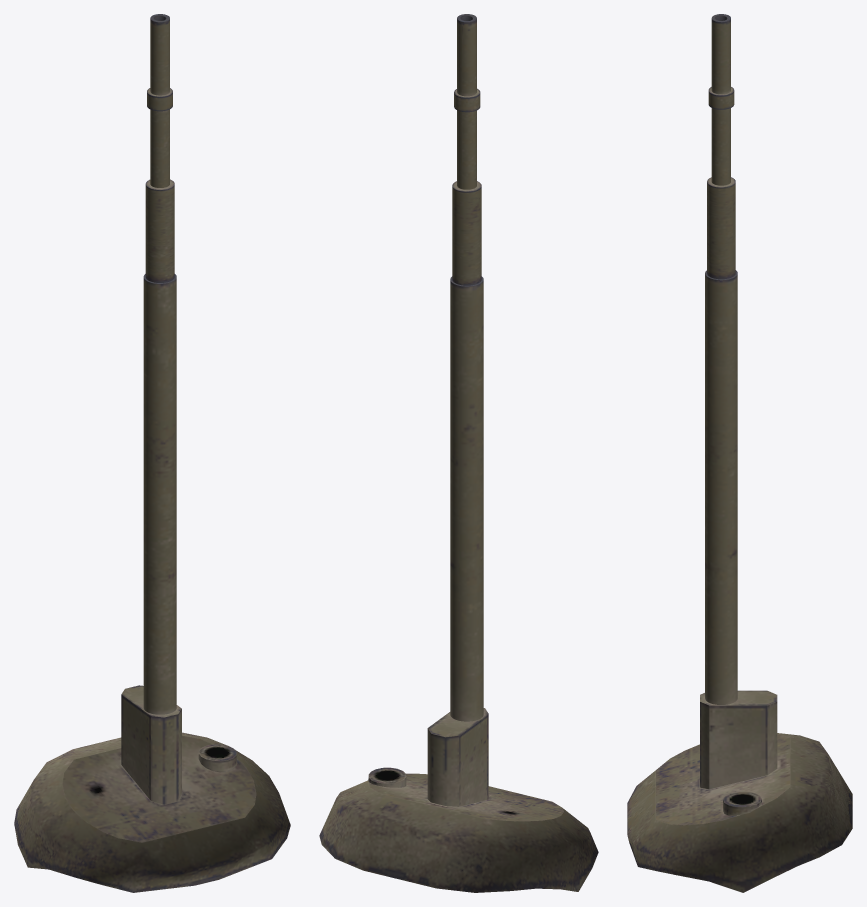
The model's file is Gun_10.glb.
The picture shows the model from 3 angles, left to right: view 1: azimuth 30°, elevation 25°; view 2: azimuth 150°, elevation 25°; view 3: azimuth 270°, elevation 25°; orthographic projection. The views are drawn at different scales.
Visible parts, largest first — view 1: set_0_group_0; view 2: set_0_group_0; view 3: set_0_group_0.
Part boxes in pixels (x1,y1,x2,y2): set_0_group_0: (14,14,290,892); set_0_group_0: (319,14,598,892); set_0_group_0: (627,14,852,892).
Size of the model in its own units: 0.5568 by 1.82 by 0.4531.
Materials: 1 (1 with a texture image).
